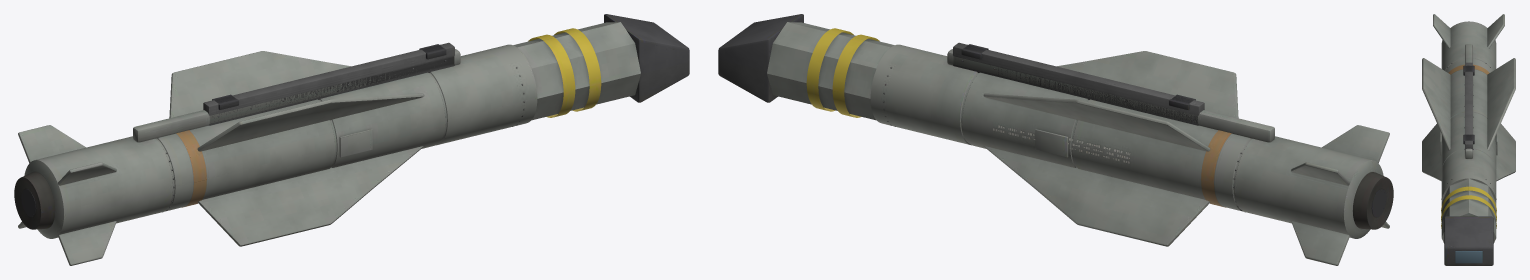
Rendered from agm_3.glb.
3 renders of one model, left to right at view 1: azimuth 30°, elevation 25°; view 2: azimuth 150°, elevation 25°; view 3: azimuth 270°, elevation 25°, orthographic. The views are drawn at different scales.
Parts seen in each view (by area): view 1: agm_3; view 2: agm_3; view 3: agm_3.
Boxes of the visible parts, x1,y1,x2,y2 form: agm_3: (14,14,689,265); agm_3: (718,14,1393,265); agm_3: (1422,14,1515,265).
Bounding box in the file's own units: 0.9965 × 0.1846 × 0.1846.
Materials: 9 (9 with a texture image).
